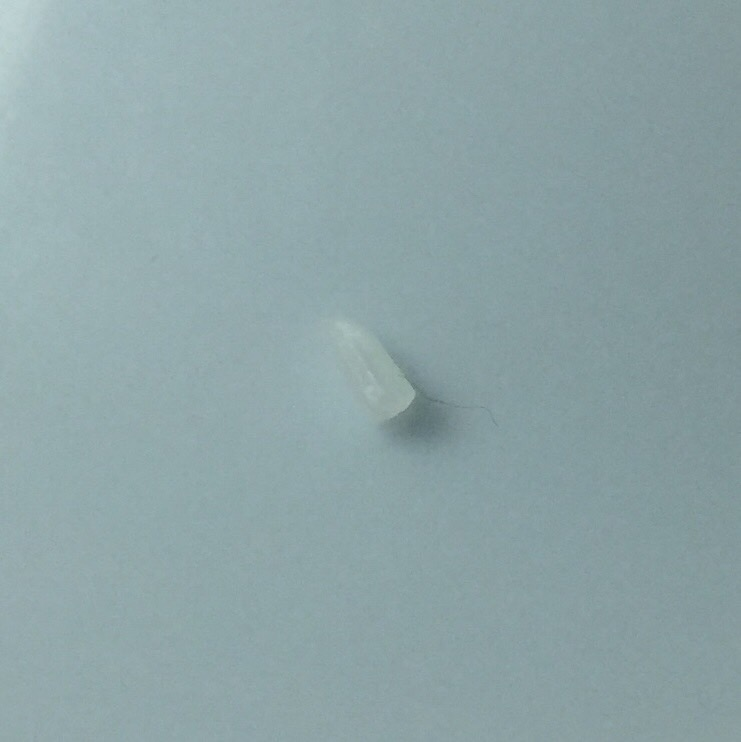Gao Tam: (311, 305, 421, 427)
